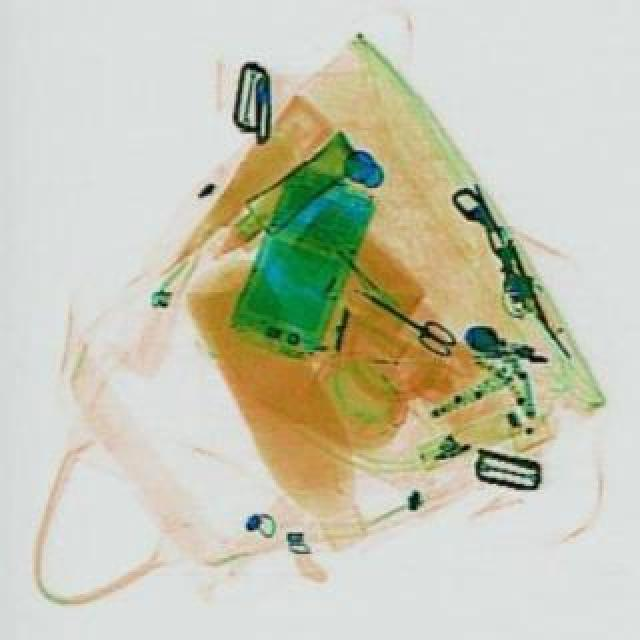pliers: (350, 278, 458, 356)
